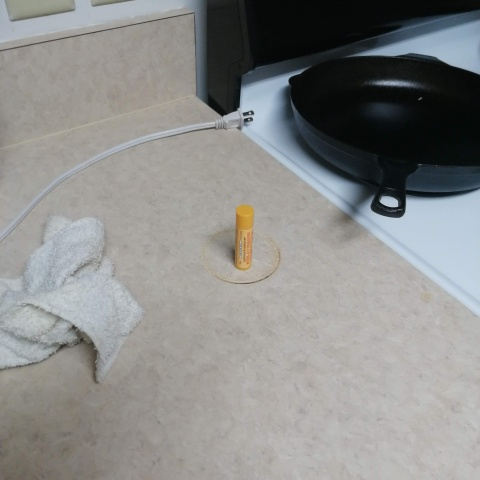chapstick: (232, 204, 255, 270)
